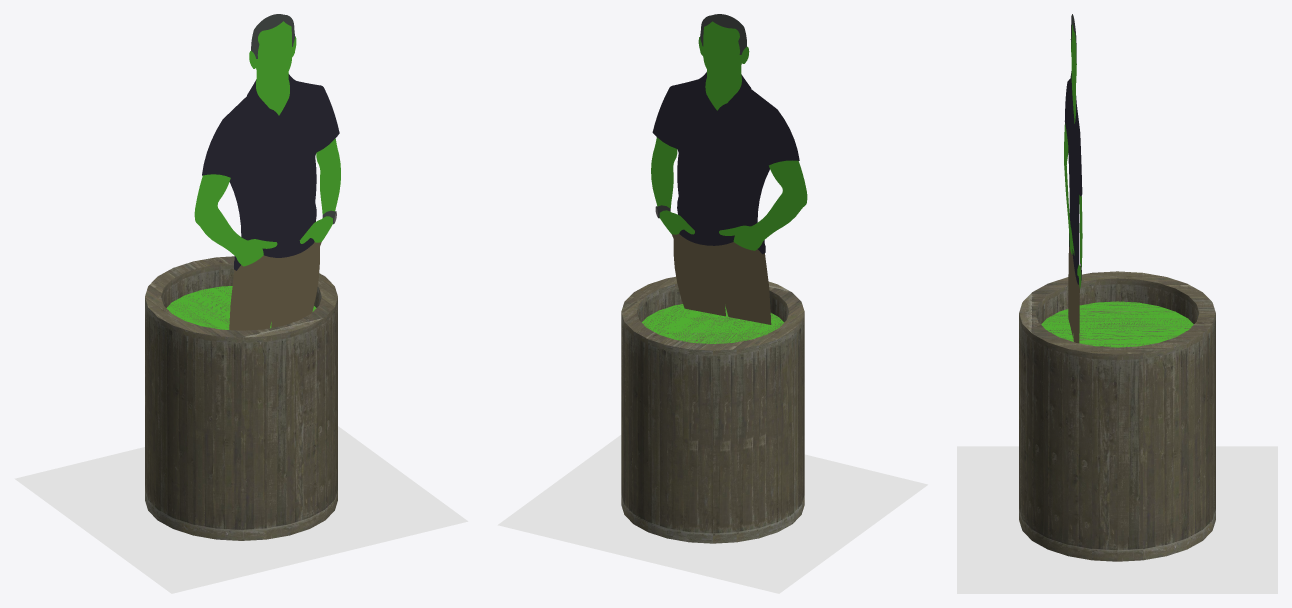
The model's file is barrel.dae.
3 views of the same model, side by side, from view 1: azimuth 30°, elevation 25°; view 2: azimuth 150°, elevation 25°; view 3: azimuth 270°, elevation 25° (orthographic). The views are drawn at different scales.
Visible parts, largest first — view 1: group_0 (×3), Chris (×7), wall23; view 2: group_0 (×3), Chris (×7), wall23; view 3: group_0 (×3), wall23, Chris (×4).
Boxes of the visible parts, x1,y1,x2,y2 form: group_0 (×3): (145,256,337,540); Chris (×7): (194,14,340,330); wall23: (14,426,468,593); group_0 (×3): (621,276,804,543); Chris (×7): (651,14,807,324); wall23: (497,435,927,593); group_0 (×3): (1019,271,1215,561); wall23: (957,446,1277,593); Chris (×4): (1064,25,1082,343).
Size of the model in its own units: 43.31 by 39.76 by 69.5.
Materials: 8 (1 with a texture image).
